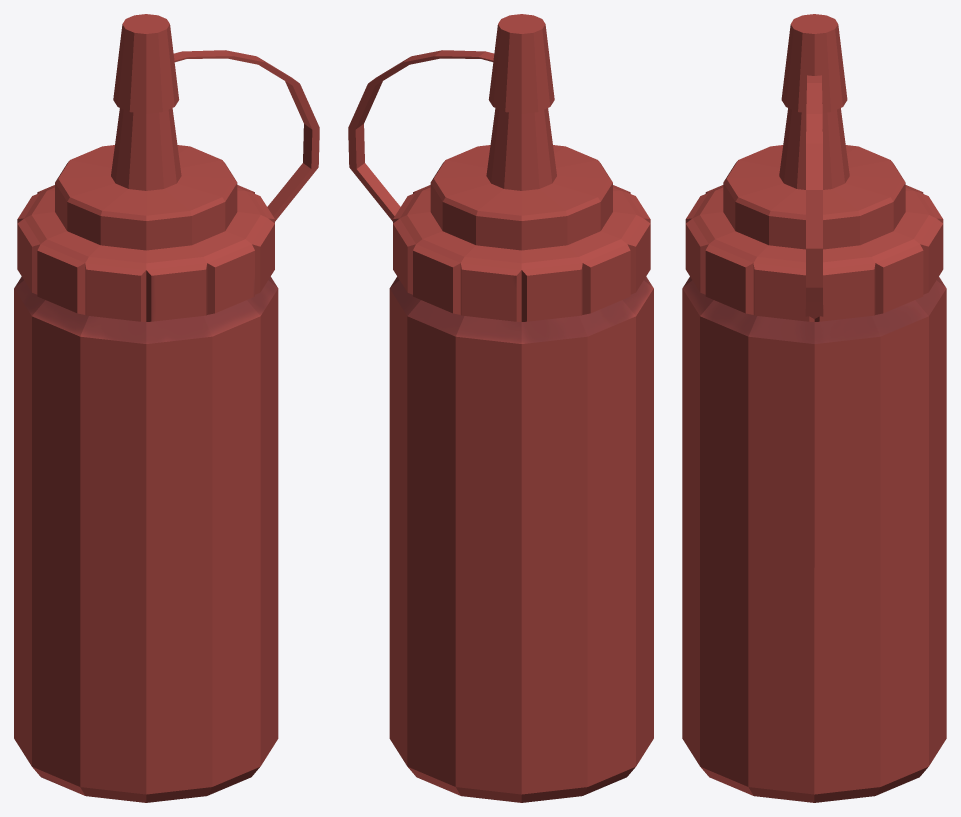
The model's file is 番茄醬_塗色完成.fbx.
3 views of the same model, side by side, from view 1: azimuth 30°, elevation 25°; view 2: azimuth 150°, elevation 25°; view 3: azimuth 270°, elevation 25° (orthographic).
Visible parts, largest first — view 1: Circle.012; view 2: Circle.012; view 3: Circle.012.
Boxes of the visible parts, x1,y1,x2,y2 form: Circle.012: (14,14,319,802); Circle.012: (348,14,653,802); Circle.012: (682,14,946,802).
Size of the model in its own units: 62.72 by 154 by 50.56.
